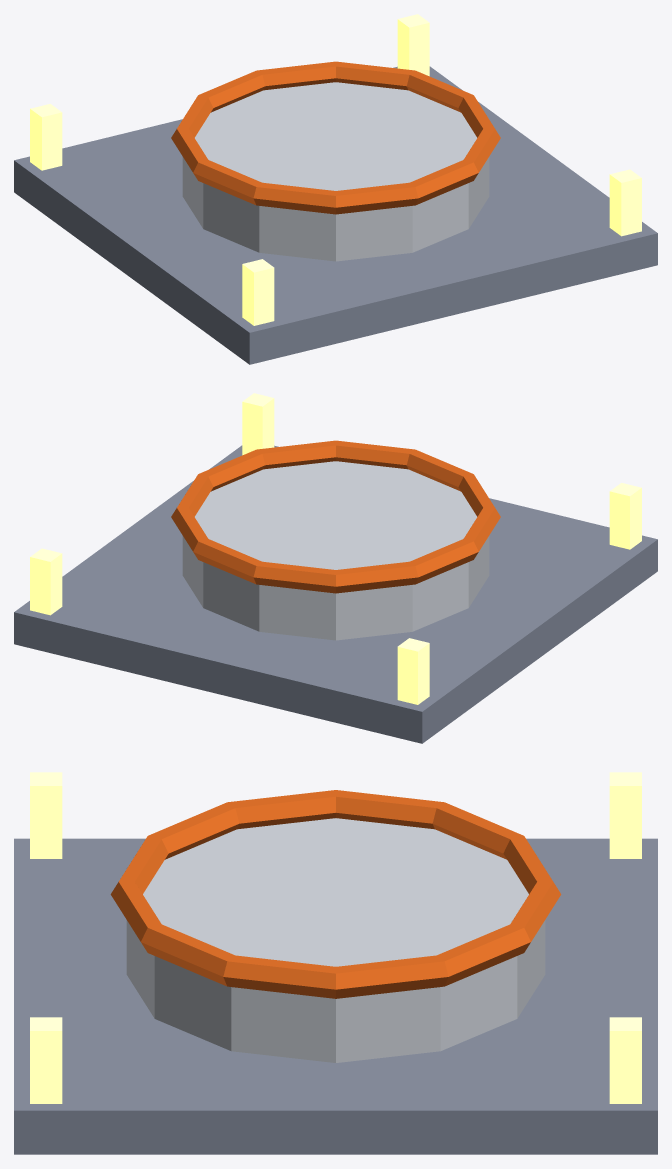
Rendered from colony-hab-dock.glb.
The picture shows the model from 3 angles, top to bottom: view 1: azimuth 30°, elevation 25°; view 2: azimuth 150°, elevation 25°; view 3: azimuth 270°, elevation 25°; orthographic projection. The views are drawn at different scales.
Visible parts, largest first — view 1: hab_dock; view 2: hab_dock; view 3: hab_dock.
Part boxes in pixels (x1,y1,x2,y2): hab_dock: [14, 14, 657, 364]; hab_dock: [14, 393, 657, 743]; hab_dock: [14, 772, 657, 1154].
Bounding box in the file's own units: 4 × 0.9366 × 4.
